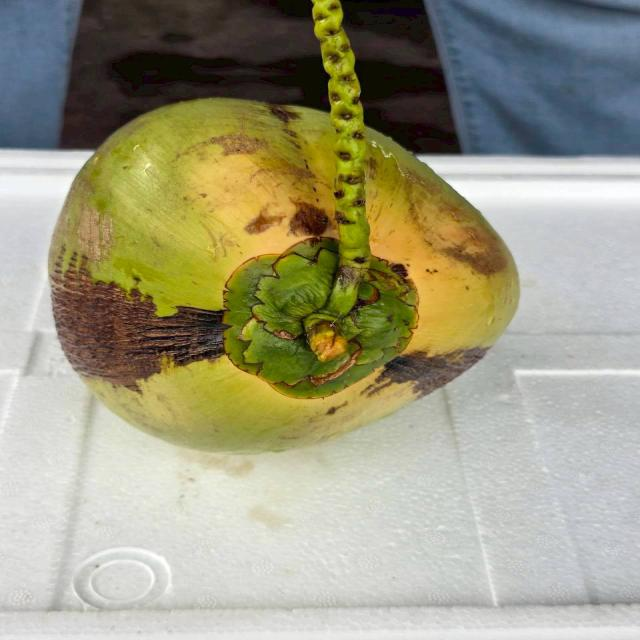coco_1.5: (161, 194, 493, 442)
